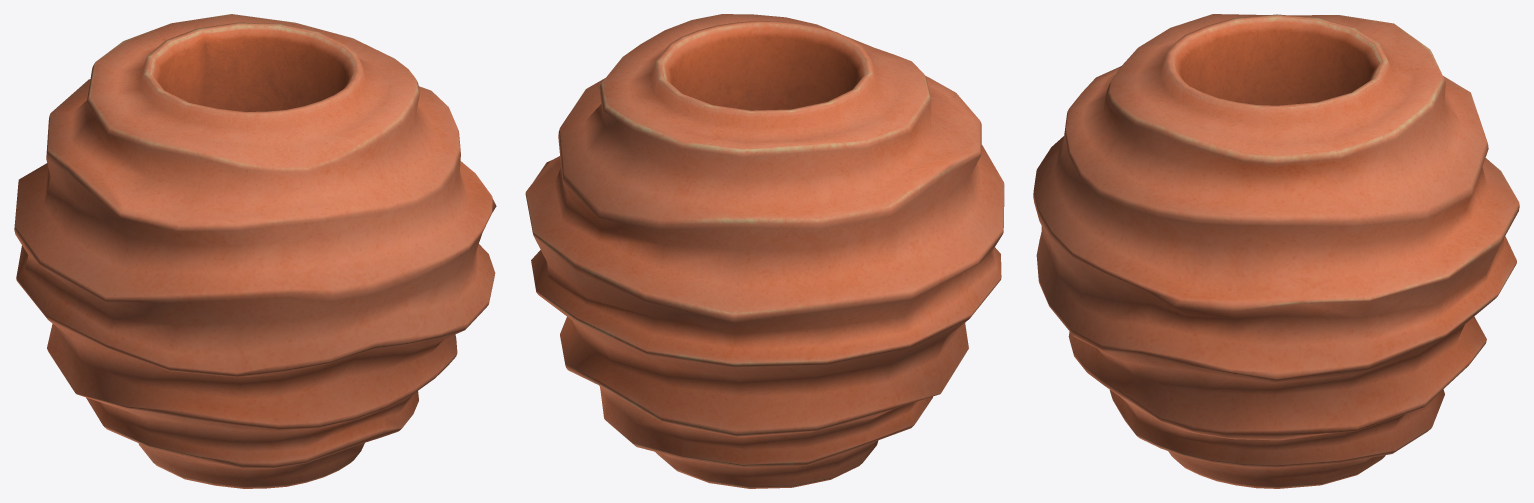
Rendered from vase.glb.
3 views of the same model, side by side, from view 1: azimuth 30°, elevation 25°; view 2: azimuth 150°, elevation 25°; view 3: azimuth 270°, elevation 25° (orthographic).
Parts seen in each view (by area): view 1: Vase; view 2: Vase; view 3: Vase.
Part boxes in pixels (<box>): Vase: <box>14,14,496,488</box>; Vase: <box>525,14,1004,488</box>; Vase: <box>1033,14,1519,488</box>.
Size of the model in its own units: 0.3152 by 0.269 by 0.3115.
1 material, 1 textured.
